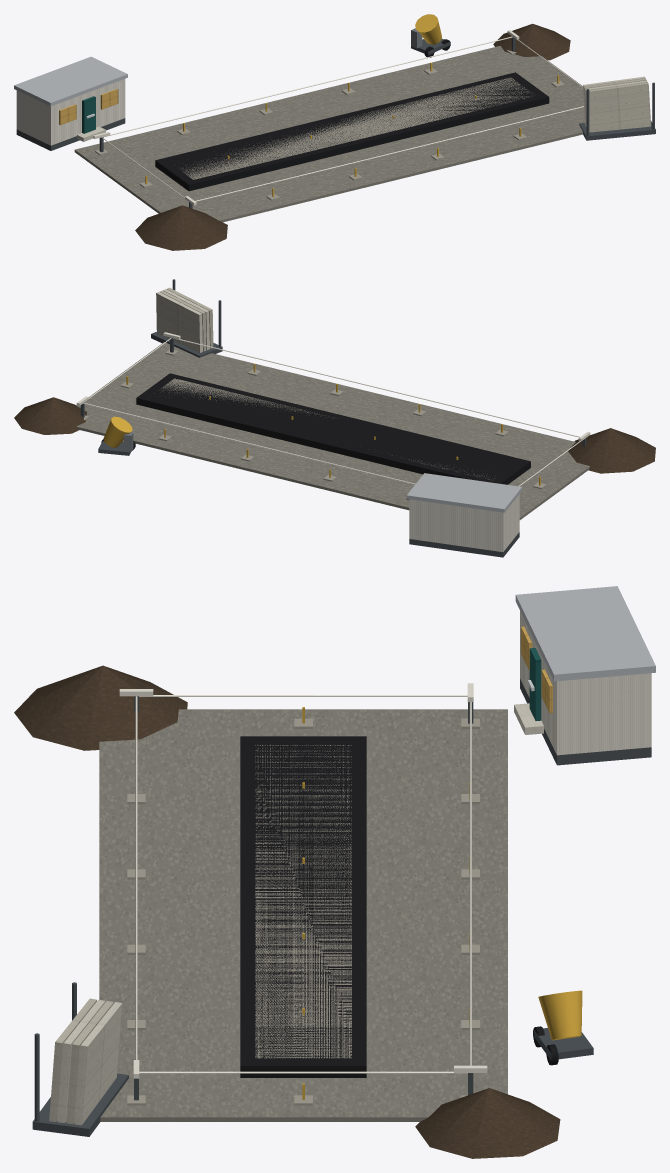
Rendered from fun-5-site.glb.
The picture shows the model from 3 angles, top to bottom: view 1: azimuth 30°, elevation 25°; view 2: azimuth 150°, elevation 25°; view 3: azimuth 270°, elevation 25°; orthographic projection. The views are drawn at different scales.
Bounding box in the file's own units: 30.72 × 3.15 × 17.29.
16 materials, 8 textured.
